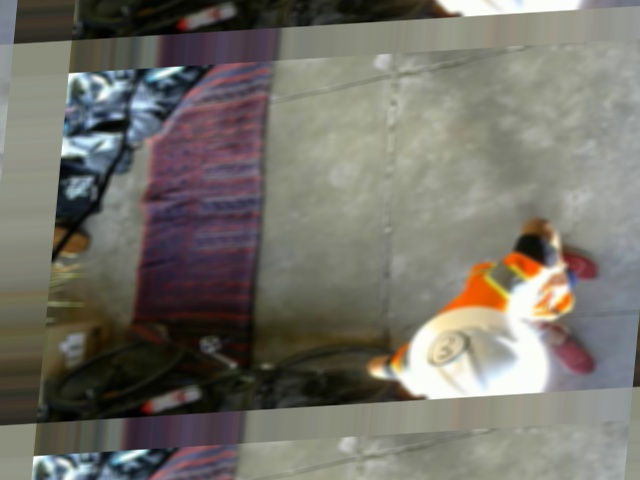three: (425, 328, 469, 366)
